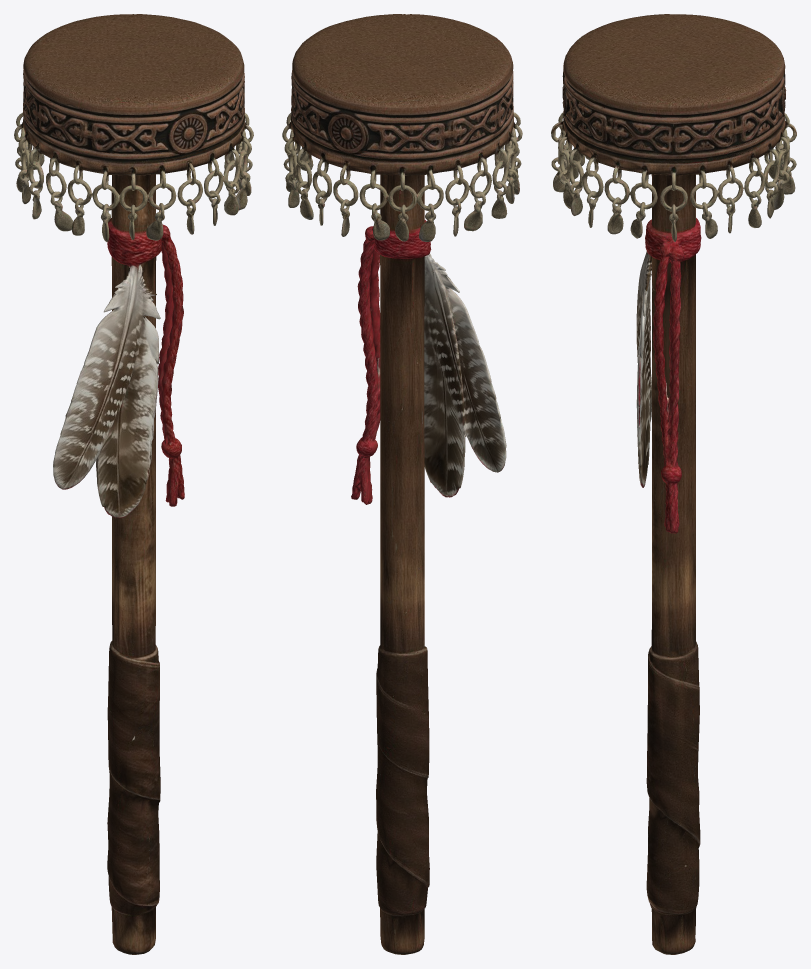
The model's file is asatayaq.glb.
3 renders of one model, left to right at view 1: azimuth 30°, elevation 25°; view 2: azimuth 150°, elevation 25°; view 3: azimuth 270°, elevation 25°, orthographic.
Size of the model in its own units: 0.4667 by 1.91 by 0.4742.
1 material, 1 textured.
